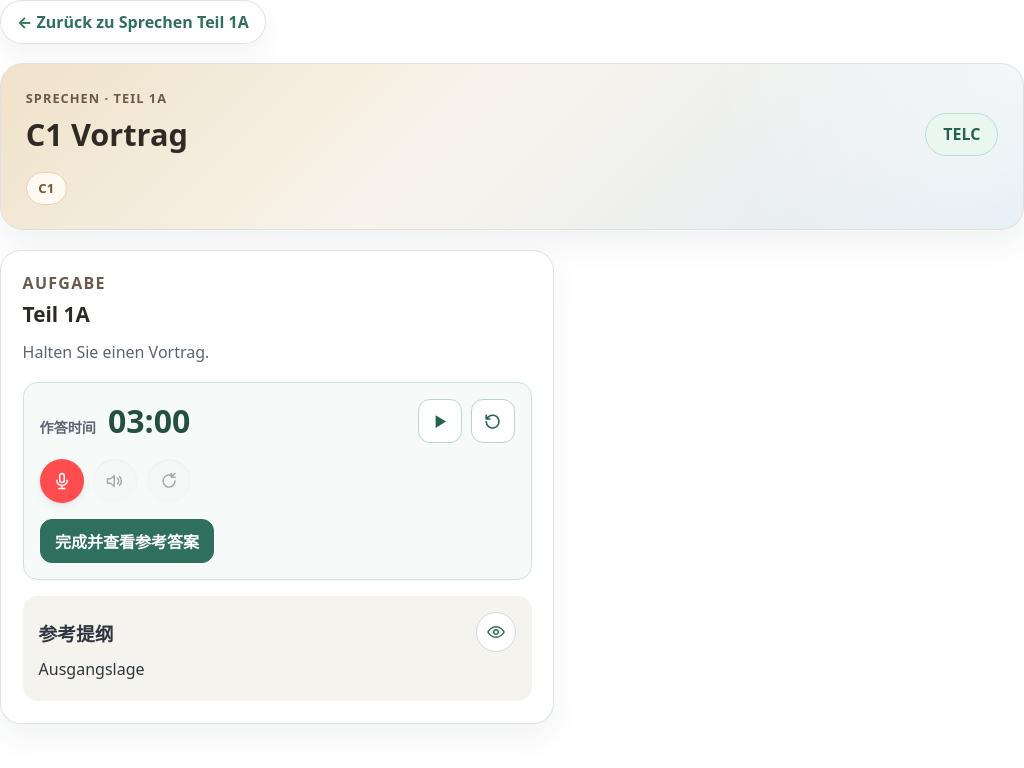
Scenario: SpeakingTeilExercisePage text annotations › starts, pauses, and resets the C1 Teil 1A timer
Check: the text "03:00" is shown, box [108, 405, 190, 437]
Click the button named "开始计时" at (440, 421), box [418, 399, 462, 443]
Wait 1000 ms
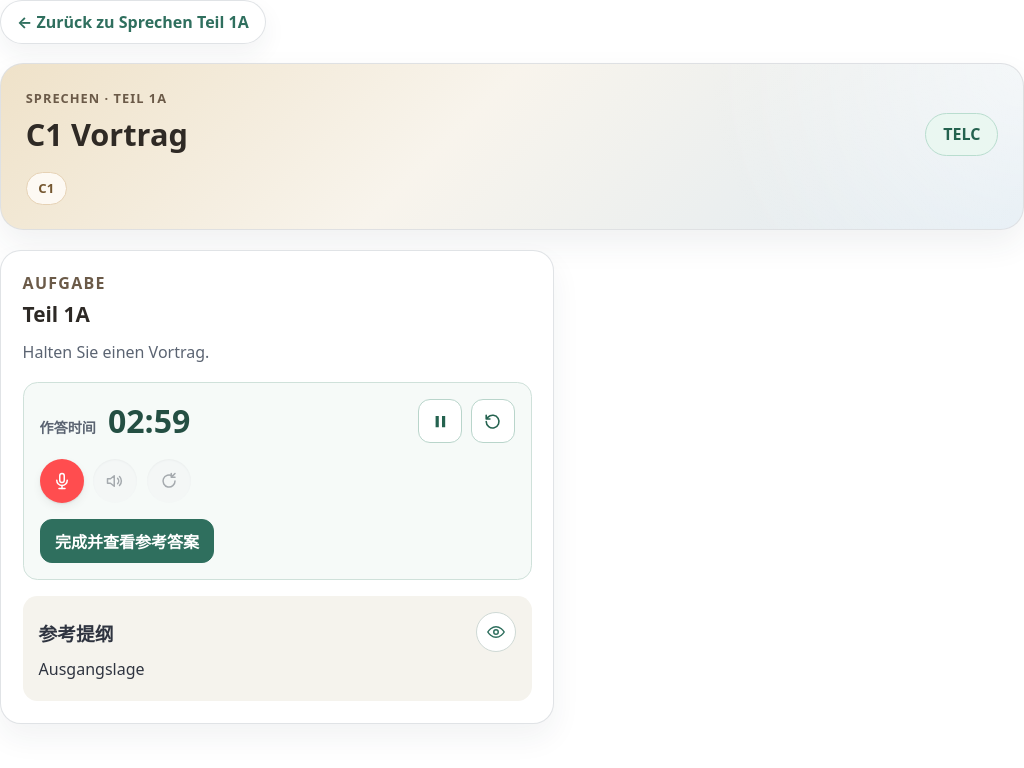
Check: the text "02:59" is shown, box [108, 405, 190, 437]
Click the button named "暂停计时" at (440, 421), box [418, 399, 462, 443]
Wait 1000 ms
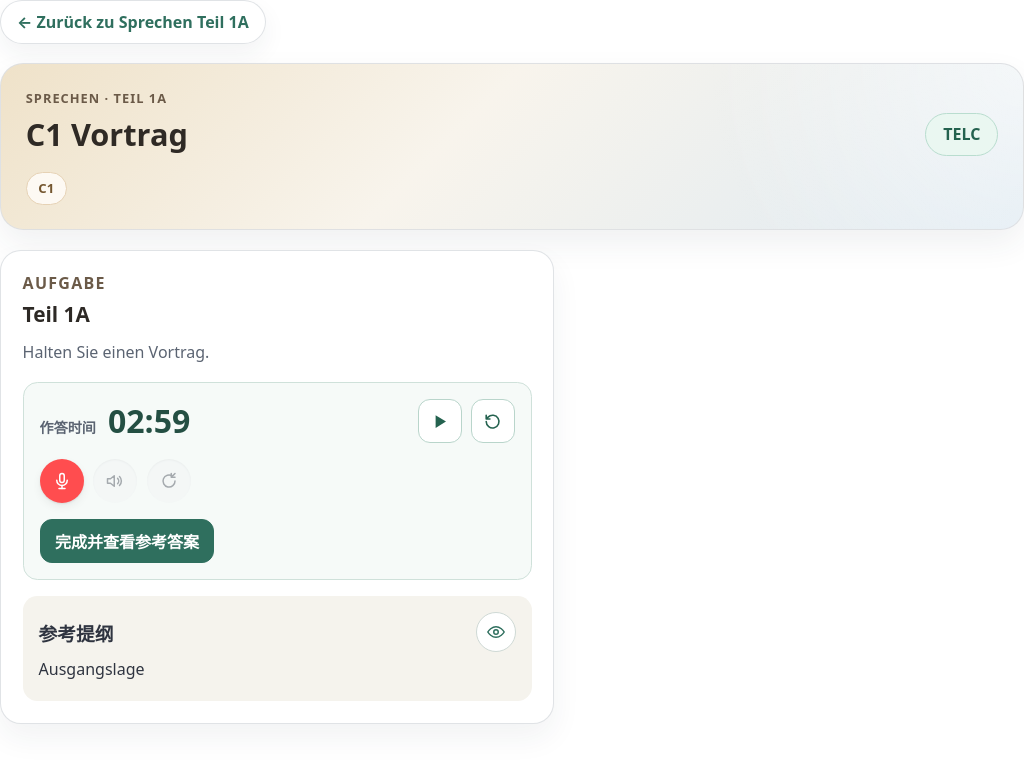
Check: the text "02:59" is shown, box [108, 405, 190, 437]
Click the button named "重新计时" at (493, 421), box [471, 399, 515, 443]
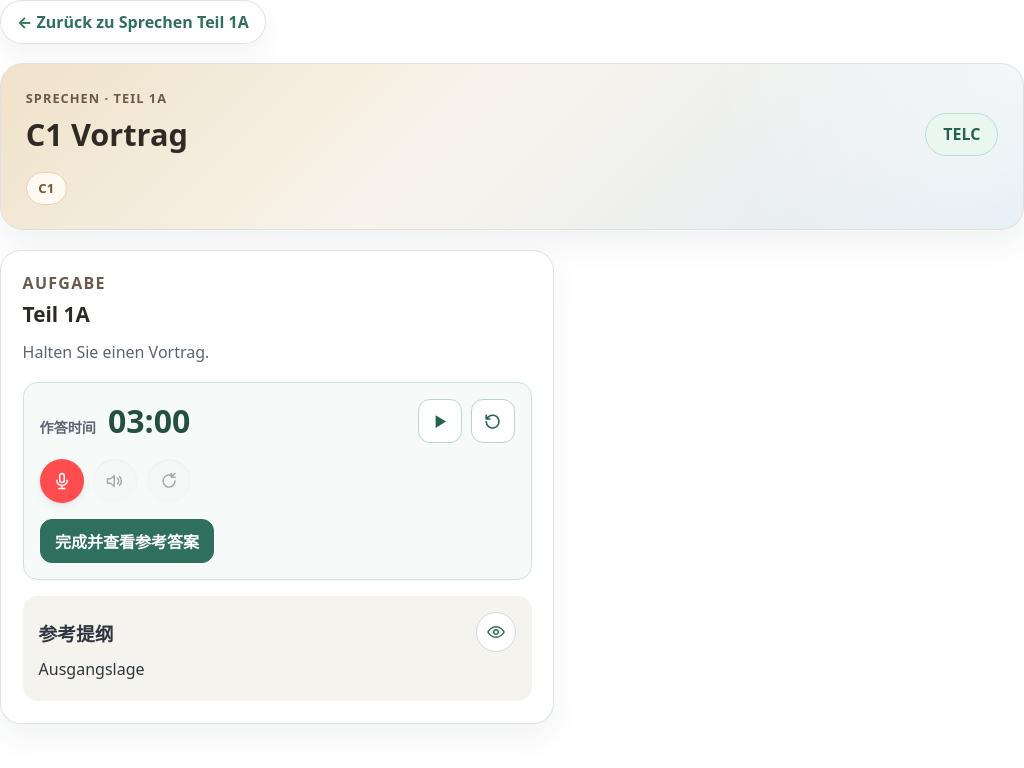
Check: the text "03:00" is shown, box [108, 405, 190, 437]
